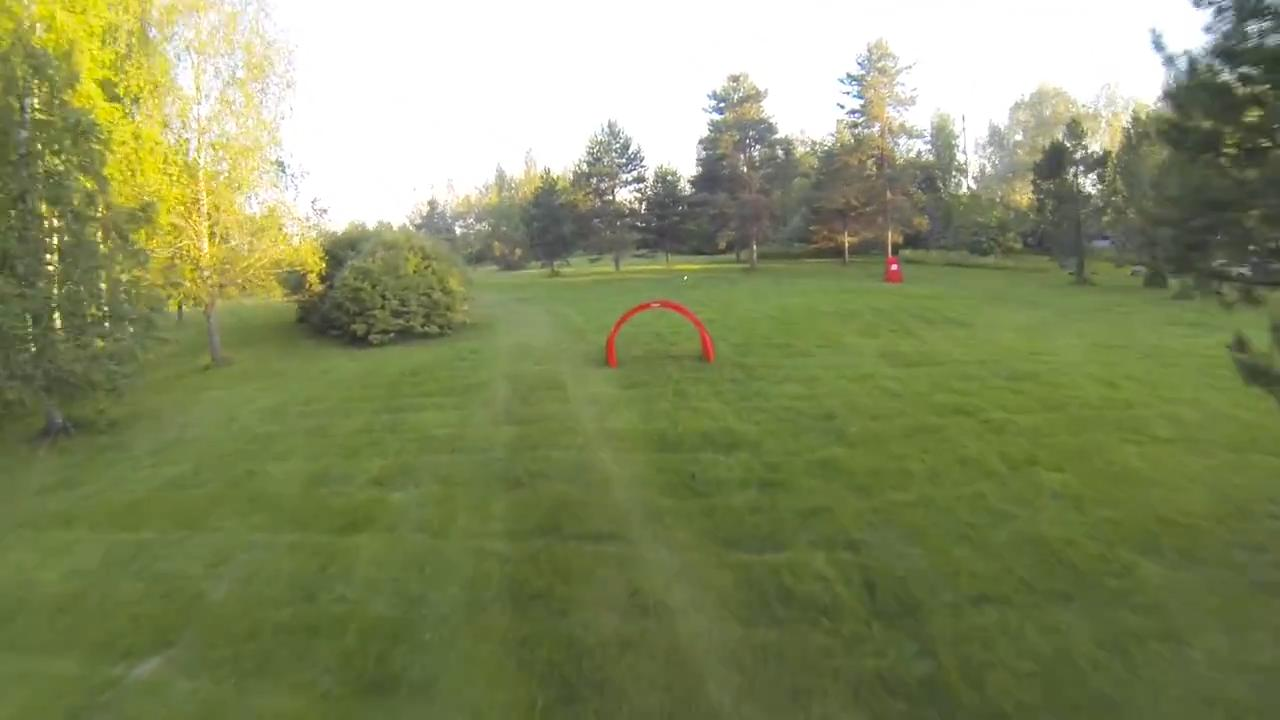gate: (598, 299, 718, 369)
